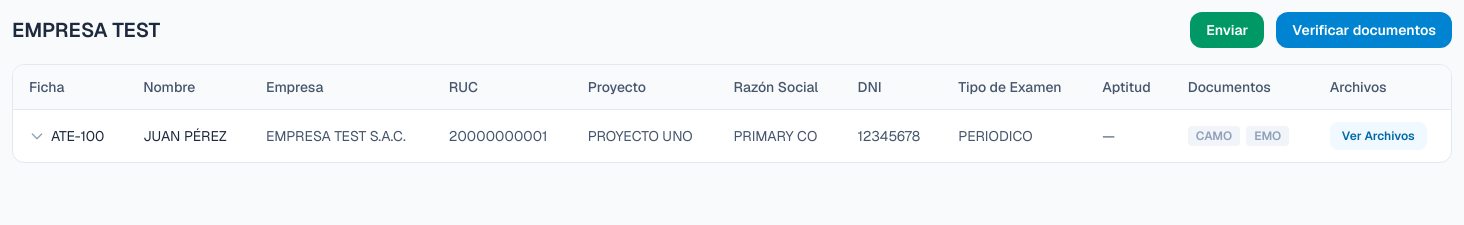
it: WorkerDetailTable — Unified Table › should expand sub-row with alternate ficha data on chevron click
Click to expand
Click the button "ATE-100". click: (67, 136)
box: [29,126,104,146]
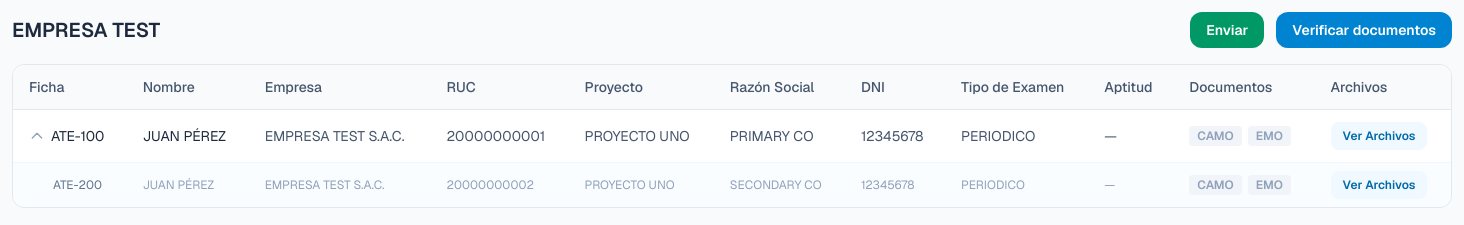
Expected: the text "ATE-200" is shown, [13,162,127,207]
Expected: the text "20000000002" is shown, [430,162,569,207]
Expected: the text "SECONDARY CO" is shown, [714,162,845,207]
